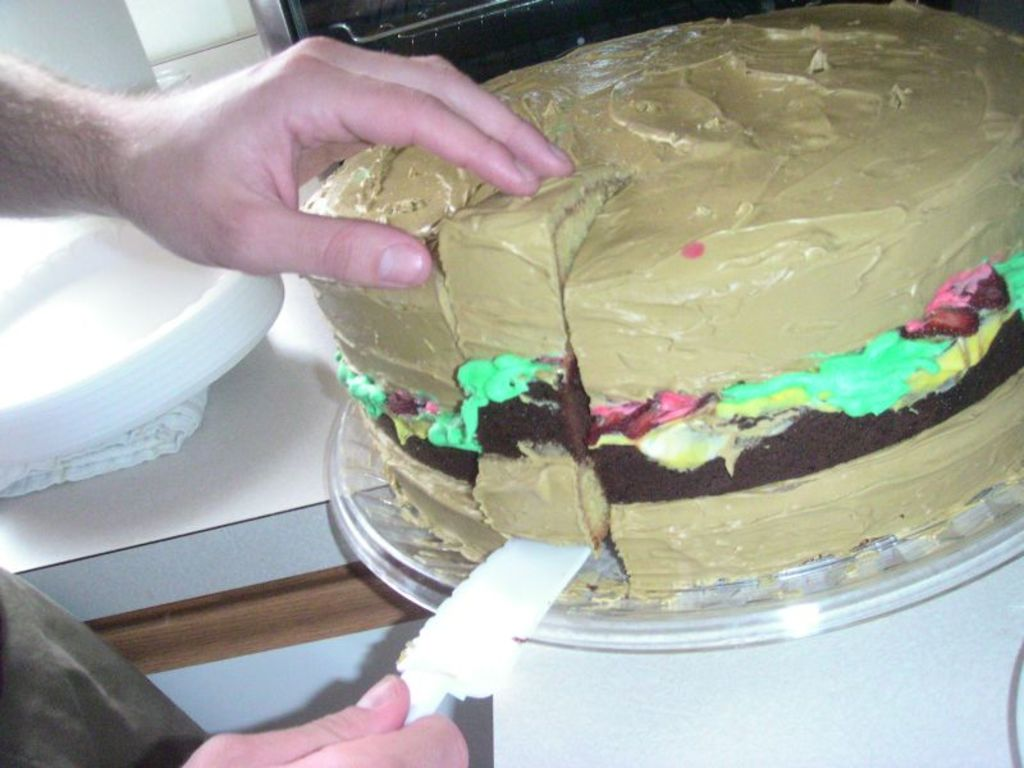cake: (300, 0, 1023, 604)
